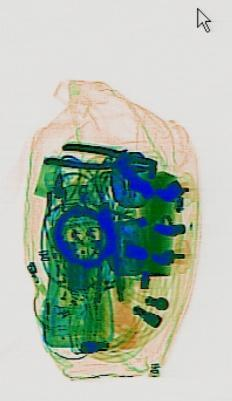Pliers: (42, 138, 157, 176)
